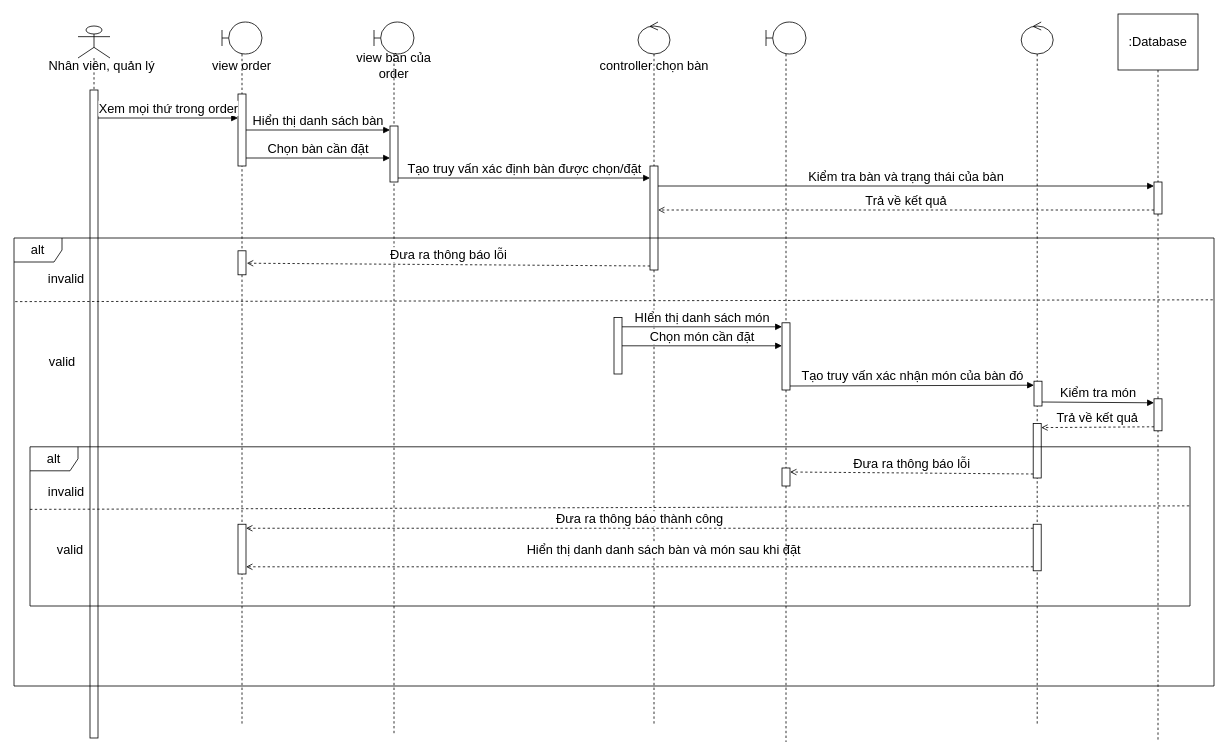
This 1230x756 diagram has some shape labels left out. The centre of each missing label's shape, as x and y in pixels:
"controller chọn món" belongs at pixel 1036 373.
"view món của order" belongs at pixel 785 381.
